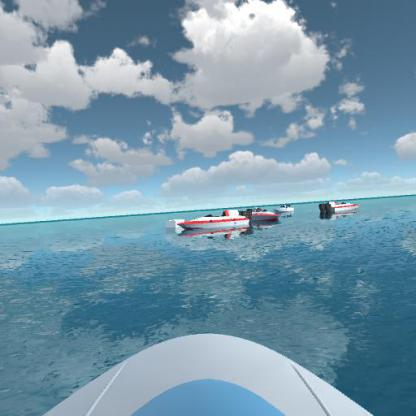usv1: (272, 198, 300, 221)
usv3: (178, 206, 255, 238), (314, 198, 364, 220), (239, 202, 281, 226)
